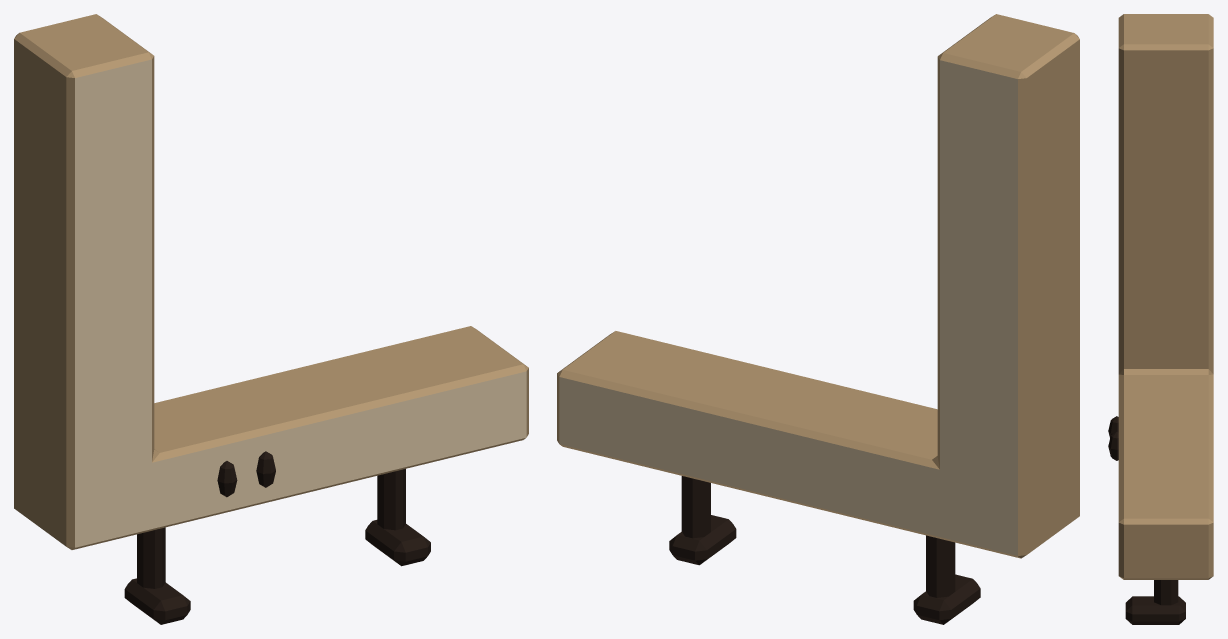
The model's file is nieun.glb.
3 renders of one model, left to right at view 1: azimuth 30°, elevation 25°; view 2: azimuth 150°, elevation 25°; view 3: azimuth 270°, elevation 25°, orthographic. The views are drawn at different scales.
Parts seen in each view (by area): view 1: Glyph, Leg_L, Leg_R; view 2: Glyph, Leg_R, Leg_L; view 3: Glyph, Leg_R, Eye_R.
Part boxes in pixels (left/top/right/bottom): Glyph: left=14, top=14, right=528, bottom=549; Leg_L: left=124, top=527, right=190, bottom=624; Leg_R: left=365, top=469, right=430, bottom=566; Glyph: left=557, top=14, right=1079, bottom=558; Leg_R: left=669, top=476, right=736, bottom=565; Leg_L: left=913, top=535, right=980, bottom=624; Glyph: left=1118, top=14, right=1213, bottom=579; Leg_R: left=1125, top=580, right=1185, bottom=624; Eye_R: left=1108, top=431, right=1118, bottom=460.
Size of the model in its own units: 0.5 by 0.6 by 0.122.
